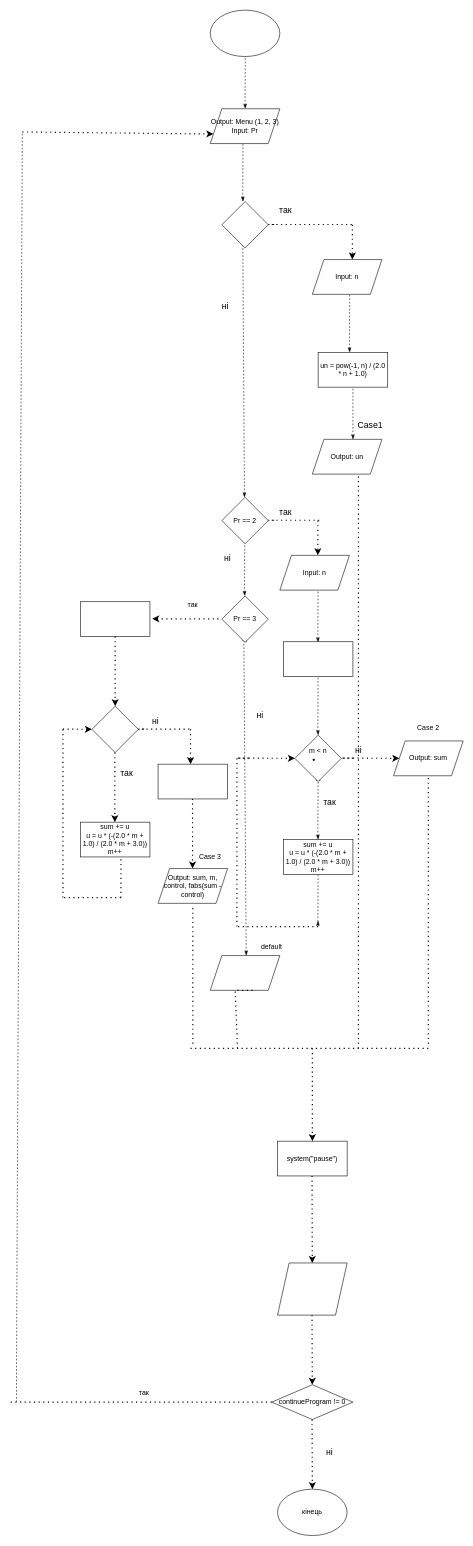
The diagram is 473 pixels wide and 1546 high, and some of its shapes have lost their labels. The centre of each missing label's shape, as x and y in pixels:
control = atan(1.0): (192,781)
eps = 1e-5 sum = 0.0 u = 1.0 m = 0: (115,619)
fabs(u) >= eps: (114,729)
Output: "Continue? (1-yes, 0-no)" Input: continueProgram: (312,1288)
Output: "Incorrect choice!": (245,972)
Pr == 1: (244,224)
sum = 0.0 u = 1.0 m = 0: (318,659)
початок: (245,33)
